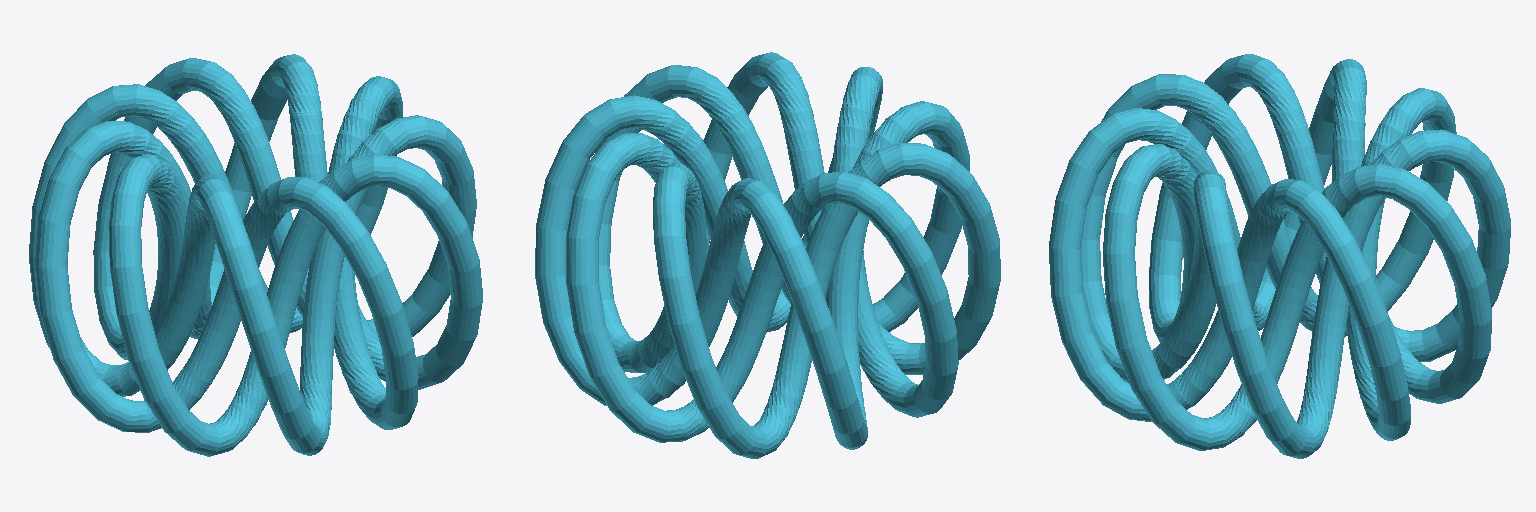
File: RoomObject2.obj
3 views of the same model, side by side, from view 1: azimuth 30°, elevation 25°; view 2: azimuth 150°, elevation 25°; view 3: azimuth 270°, elevation 25° (orthographic).
Bounding box in the file's own units: 7.08 × 4.57 × 7.08.